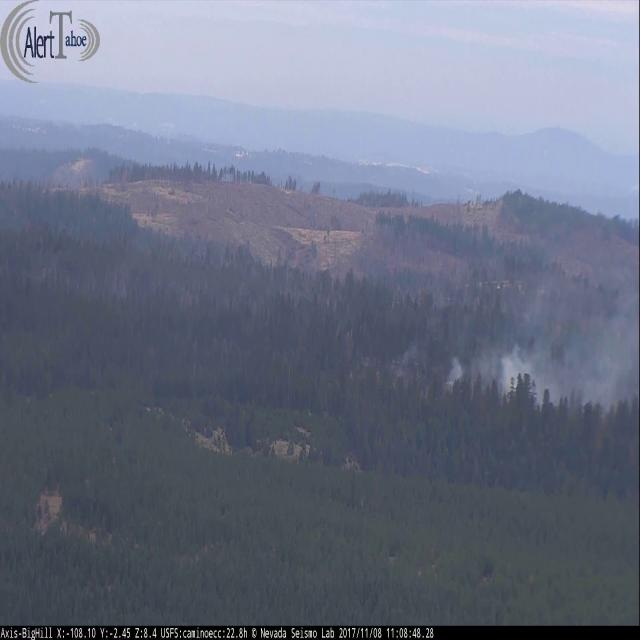smoke: (389, 205, 640, 412)
